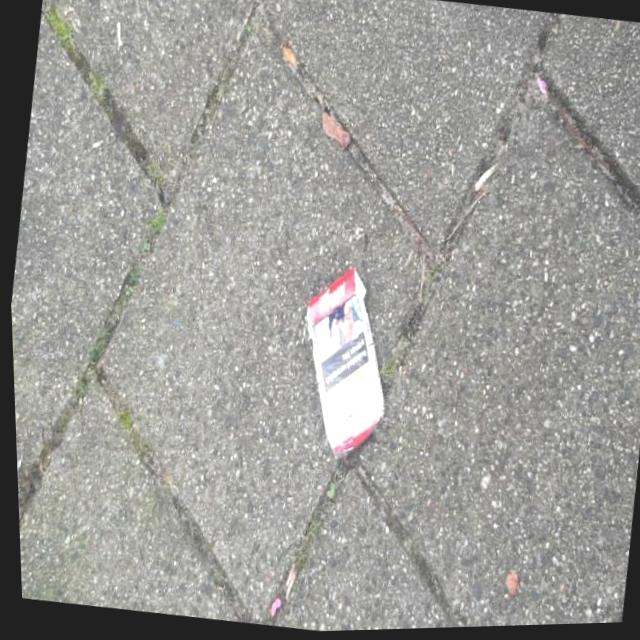Paper: (281, 258, 403, 468)
